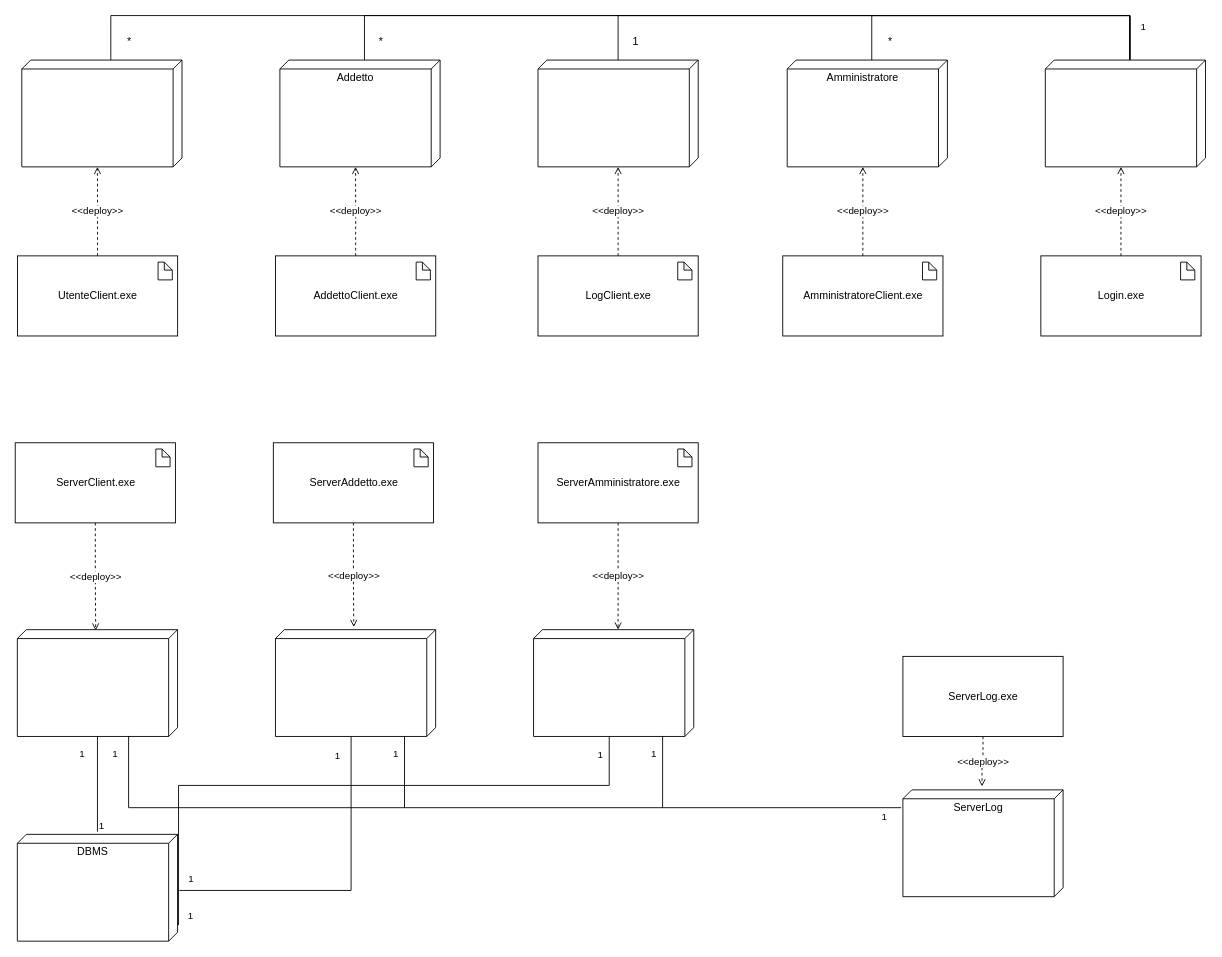
Image size: 1222x957. Some labels were removed from this diagram. Here are the shapes that lost their labels. From the top down, the centre of each, then its label:
At [101,113]: "Utente".
At [617,113]: "Log".
At [1125,113]: "ServerLogin".
At [97,682]: "ServerUtente".
At [355,682]: "ServerAddetto".
At [613,682]: "ServerAmministratore".
